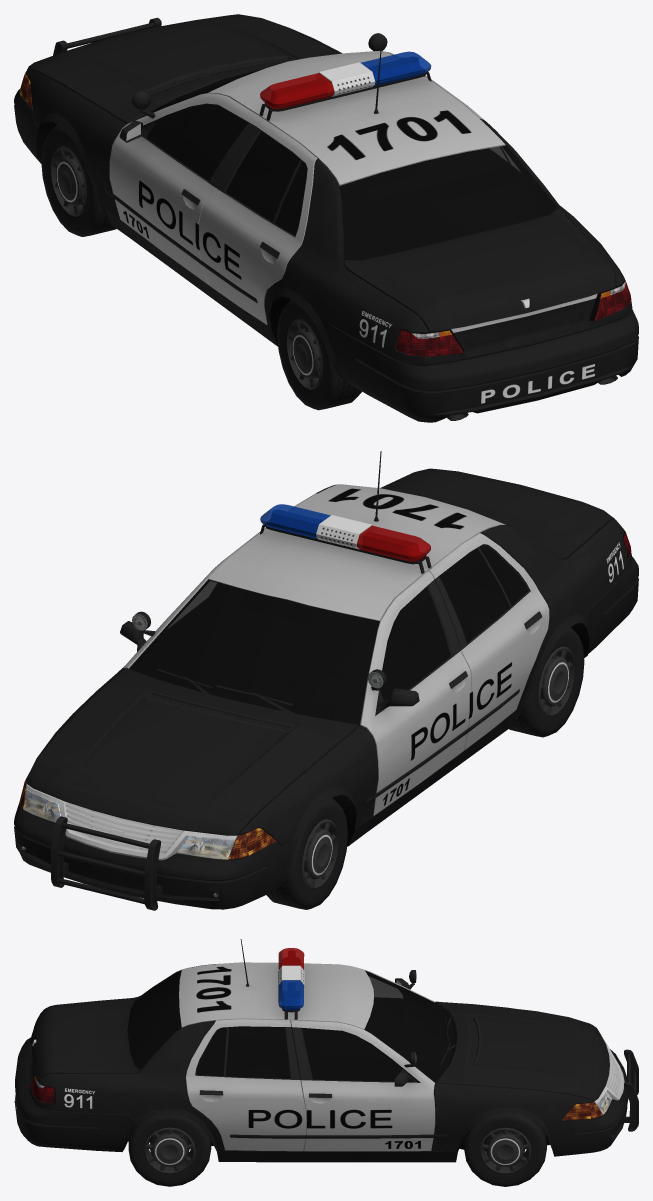
Rendered from police.glb.
3 views of the same model, one above another, from view 1: azimuth 30°, elevation 25°; view 2: azimuth 150°, elevation 25°; view 3: azimuth 270°, elevation 25° (orthographic). The views are drawn at different scales.
Parts seen in each view (by area): view 1: body_0, body_1, wheel_0, wheel_3, body_3, body_2, body_4; view 2: body_0, body_1, wheel_3, wheel_0, body_4, body_2, body_3; view 3: body_0, body_1, wheel_1, wheel_2, body_3, body_4, body_2.
Part boxes in pixels (box(x1,y1,x2,y2)): body_0: box(14, 14, 638, 422); body_1: box(137, 62, 557, 260); wheel_0: box(277, 300, 361, 410); wheel_3: box(41, 124, 116, 236); body_3: box(123, 110, 594, 403); body_2: box(260, 51, 431, 109); body_4: box(19, 73, 631, 356); body_0: box(14, 451, 638, 910); body_1: box(129, 545, 528, 724); wheel_3: box(266, 798, 347, 909); wheel_0: box(509, 627, 584, 737); body_4: box(19, 531, 631, 898); body_2: box(260, 504, 430, 561); body_3: box(328, 488, 623, 805); body_0: box(14, 939, 638, 1162); body_1: box(127, 970, 454, 1082); wheel_1: box(464, 1113, 546, 1186); wheel_2: box(128, 1115, 211, 1186); body_3: box(14, 966, 420, 1148); body_4: box(30, 972, 612, 1137); body_2: box(278, 948, 304, 1010).
Size of the model in its own units: 2 by 1.88 by 5.17.
Materials: 5 (5 with a texture image).
